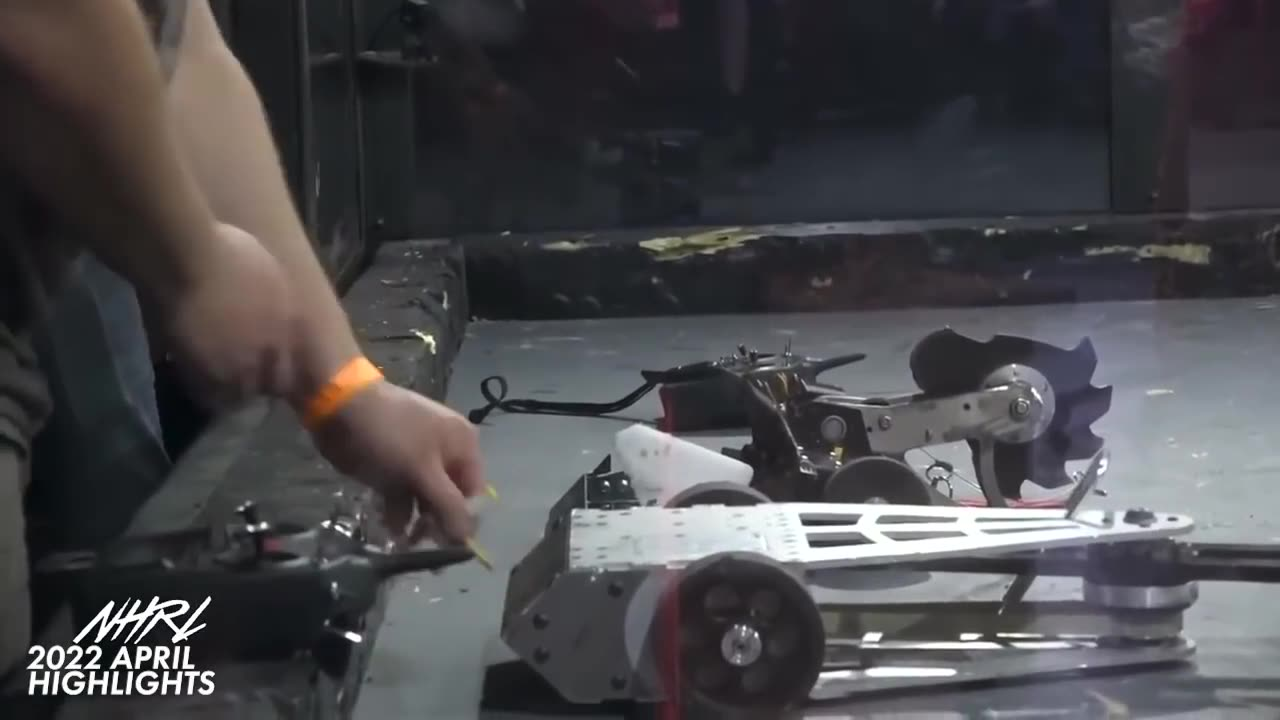combatbot: (501, 501, 1204, 720), (659, 362, 1114, 522)
